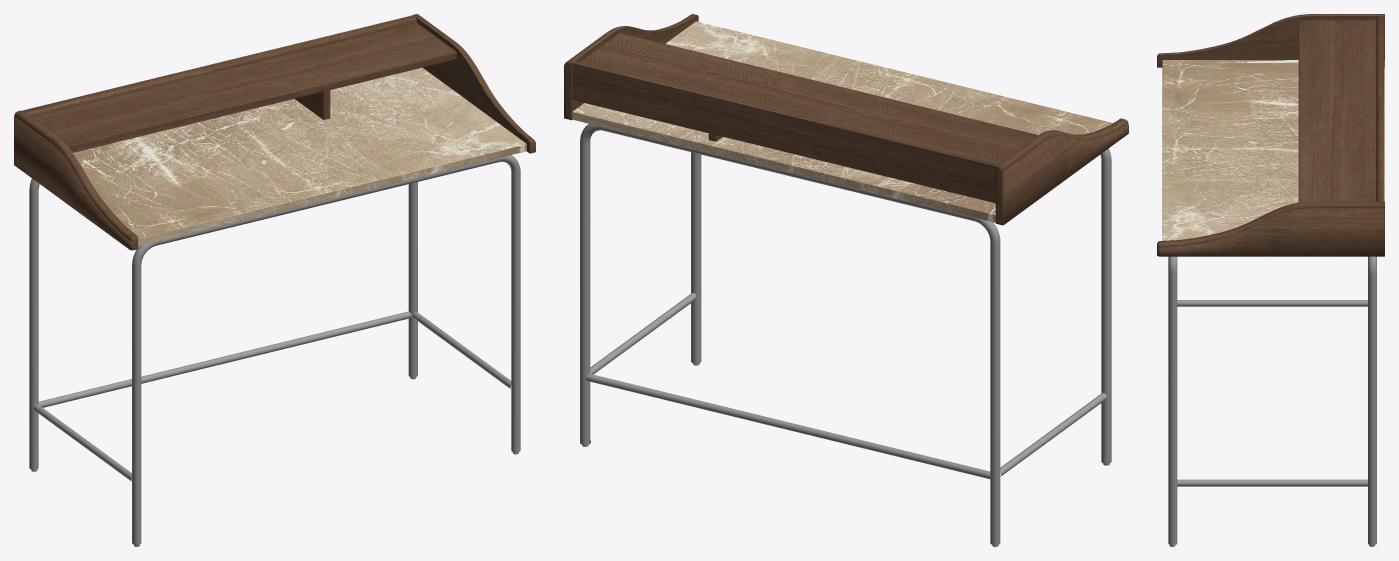
The model's file is AHIB00472.glb.
3 views of the same model, side by side, from view 1: azimuth 30°, elevation 25°; view 2: azimuth 150°, elevation 25°; view 3: azimuth 270°, elevation 25° (orthographic). The views are drawn at different scales.
Parts seen in each view (by area): view 1: BP_AHIB00472; view 2: BP_AHIB00472; view 3: BP_AHIB00472.
Boxes of the visible parts, x1=… form: BP_AHIB00472: x1=14, y1=14, x2=535, y2=546; BP_AHIB00472: x1=564, y1=14, x2=1128, y2=546; BP_AHIB00472: x1=1157, y1=14, x2=1384, y2=546.
Bounding box in the file's own units: 1 × 0.8419 × 0.5.
3 materials, 2 textured.
